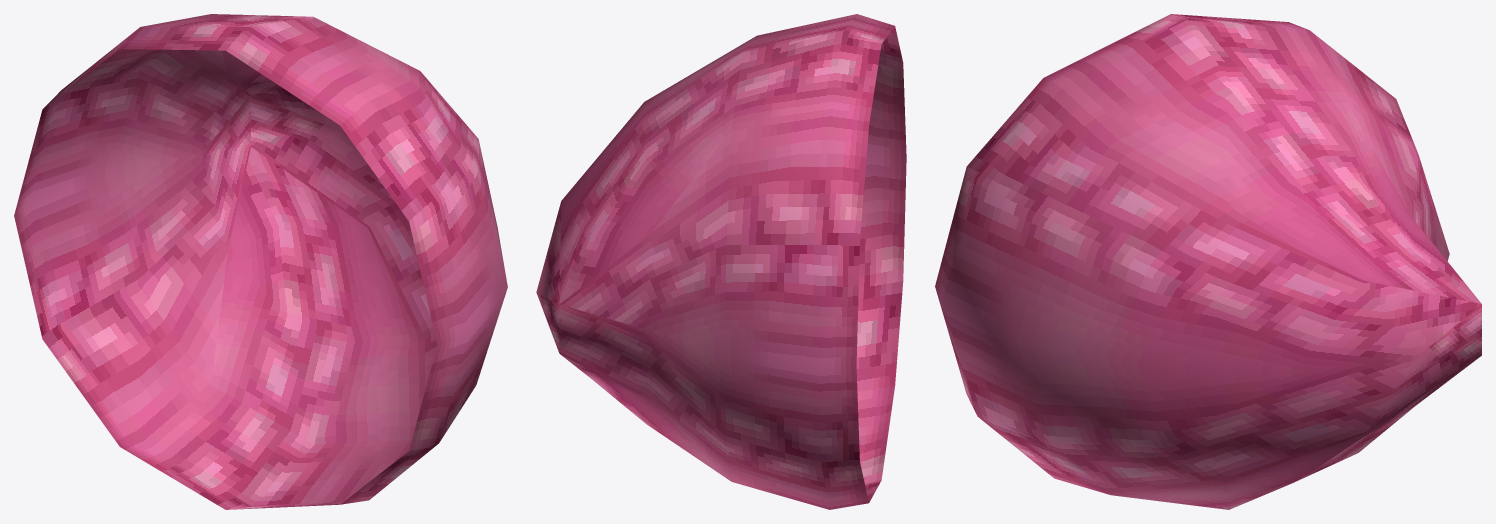
File: cap_knit_pnk.dae
The picture shows the model from 3 angles, left to right: view 1: azimuth 30°, elevation 25°; view 2: azimuth 150°, elevation 25°; view 3: azimuth 270°, elevation 25°; orthographic projection. The views are drawn at different scales.
Visible parts, largest first — view 1: cap_knit_pnk; view 2: cap_knit_pnk; view 3: cap_knit_pnk.
Boxes of the visible parts, x1,y1,x2,y2 form: cap_knit_pnk: (14,14,507,509); cap_knit_pnk: (536,14,906,509); cap_knit_pnk: (935,14,1481,509).
Size of the model in its own units: 17.49 by 22.04 by 23.02.
1 material, 1 textured.
